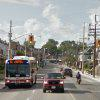Bus: (2, 50, 38, 91)
